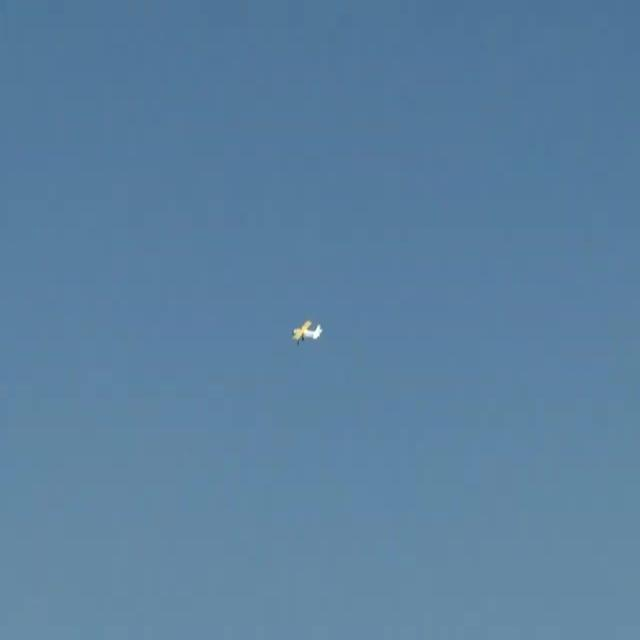iha: (292, 320, 323, 346)
